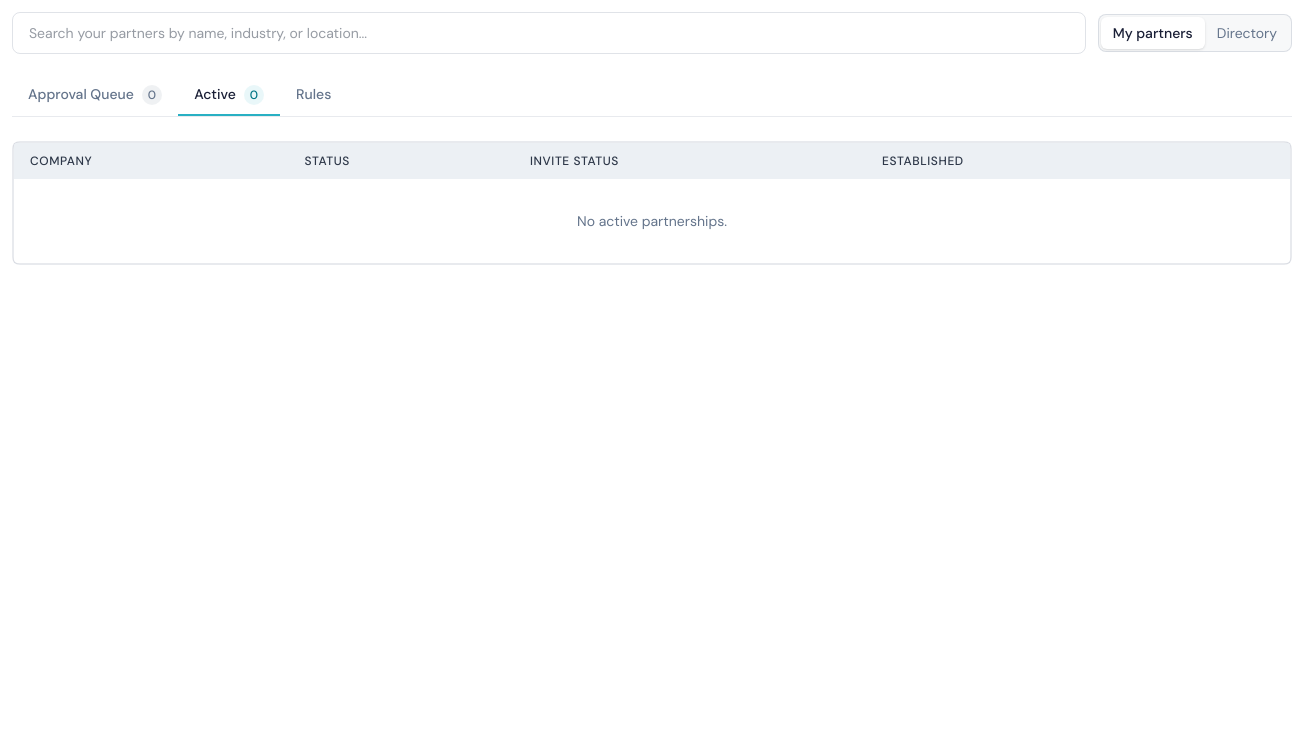
PartnersPanel — approve (SEC-web-account-1-05) › a 403 keeps the request in the queue, shows no success toast, and shows the error
Click the tab "Approval Queue0".
click(95, 95)  # box [12,74,178,116]
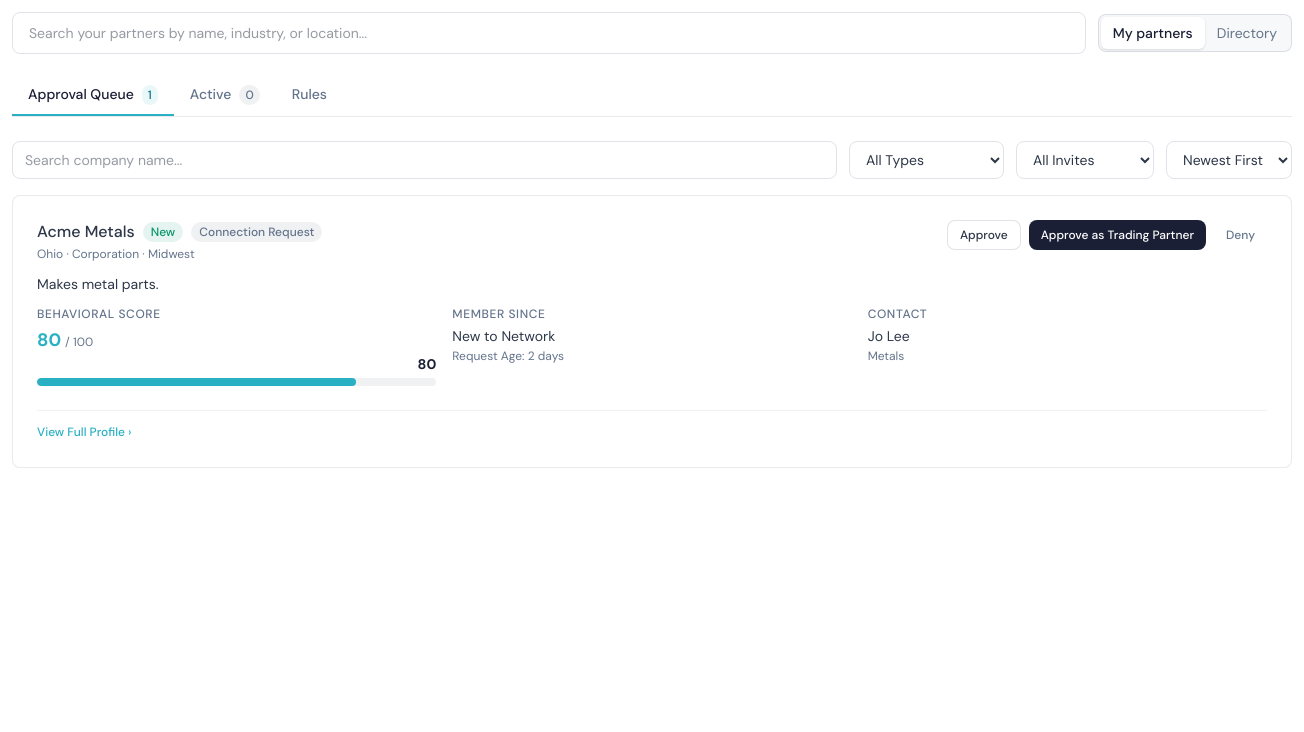
Result: the text "Acme Metals" is shown at [37,220,135,244]
Click the button "Approve".
click(984, 235)  # box [947,220,1021,250]
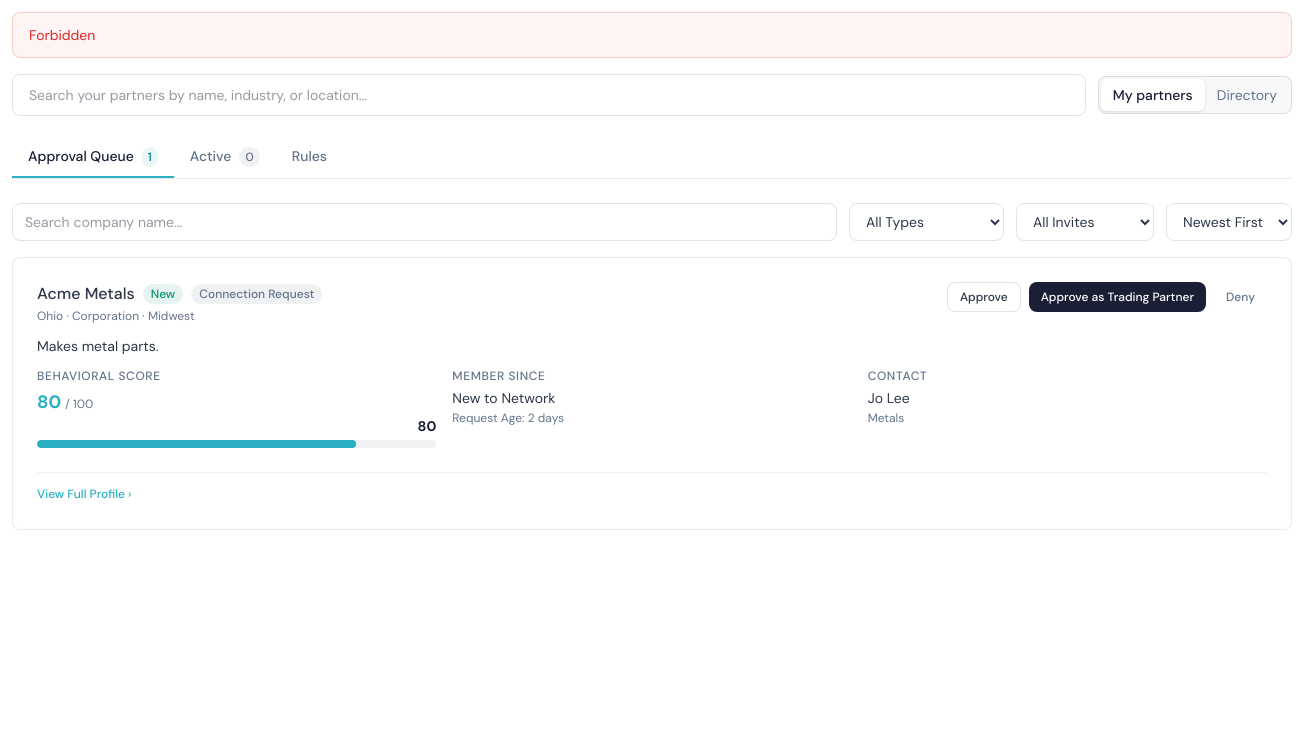
Result: the text "Acme Metals" is shown at [37,282,135,306]
Result: the message reads "Forbidden" at [29,26,95,44]
